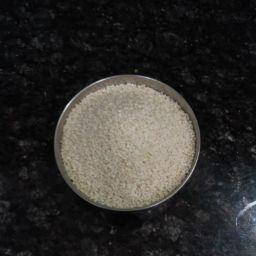Barnyard Millet(samak): (67, 83, 194, 187), (124, 86, 199, 217), (68, 99, 147, 219), (64, 86, 201, 137), (54, 108, 97, 206)
